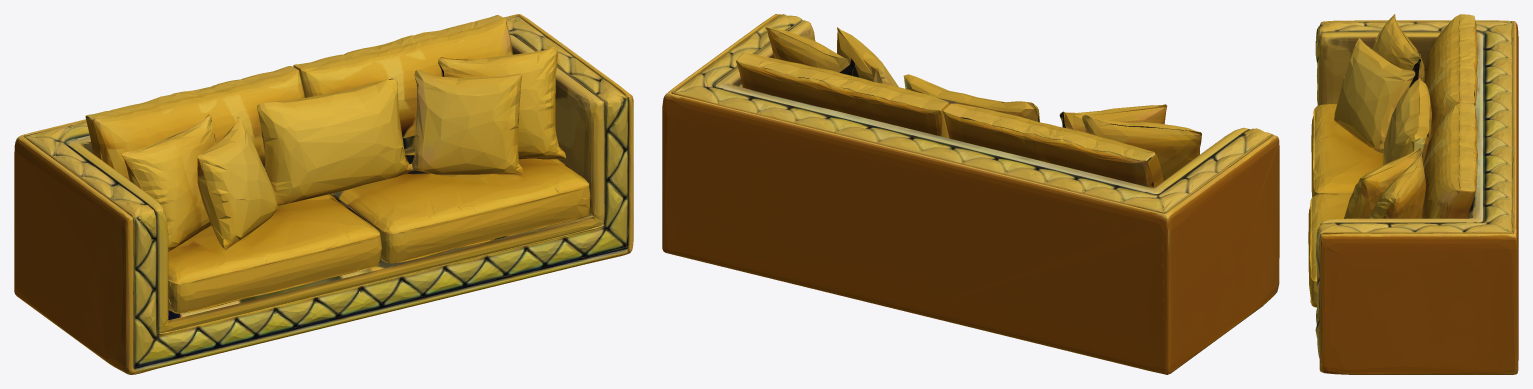
File: edited_mesh.glb
3 renders of one model, left to right at view 1: azimuth 30°, elevation 25°; view 2: azimuth 150°, elevation 25°; view 3: azimuth 270°, elevation 25°, orthographic. The views are drawn at different scales.
Visible parts, largest first — view 1: solid_001_wire; view 2: solid_001_wire; view 3: solid_001_wire.
Boxes of the visible parts, <box> form: solid_001_wire: <box>14,14,633,374</box>; solid_001_wire: <box>662,14,1279,374</box>; solid_001_wire: <box>1308,14,1518,374</box>.
Size of the model in its own units: 2 by 0.7095 by 0.8163.
Materials: 1 (1 with a texture image).
